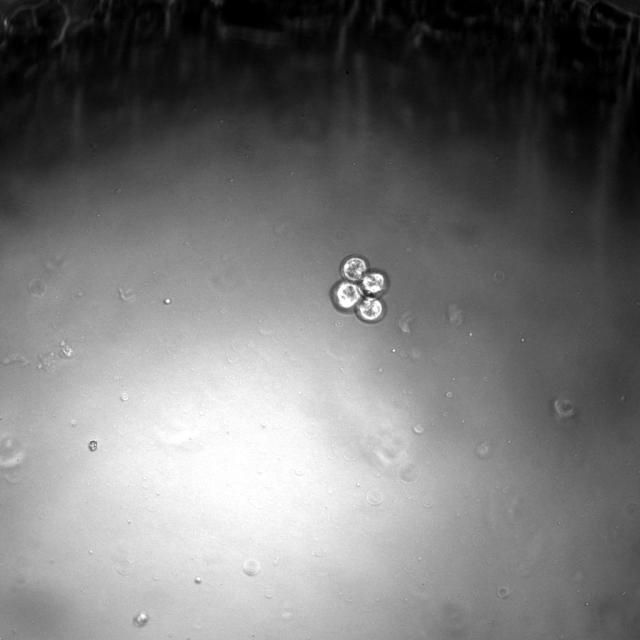organoid: (330, 255, 389, 323)
